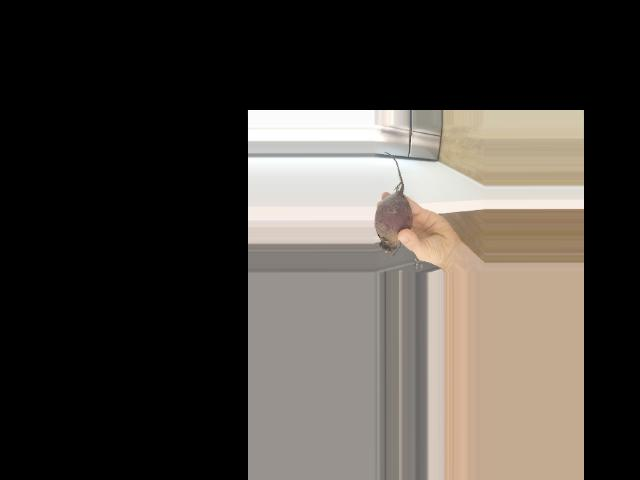beet: (374, 151, 412, 256)
